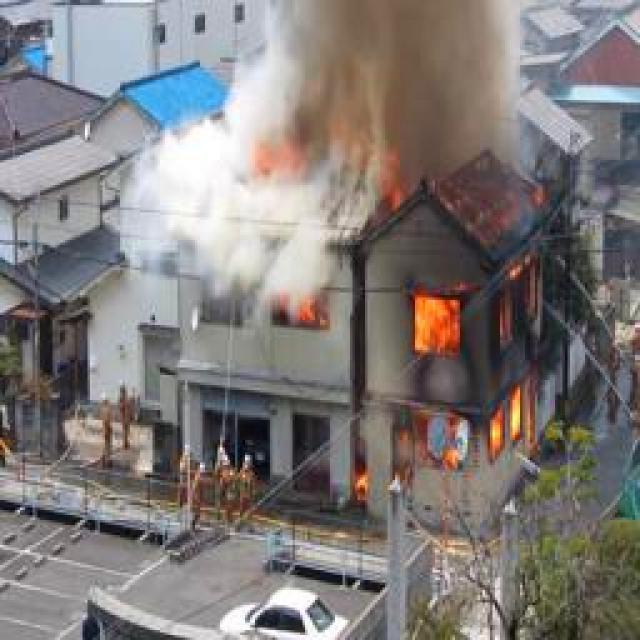Fire: (347, 241, 552, 513), (260, 289, 325, 331)
